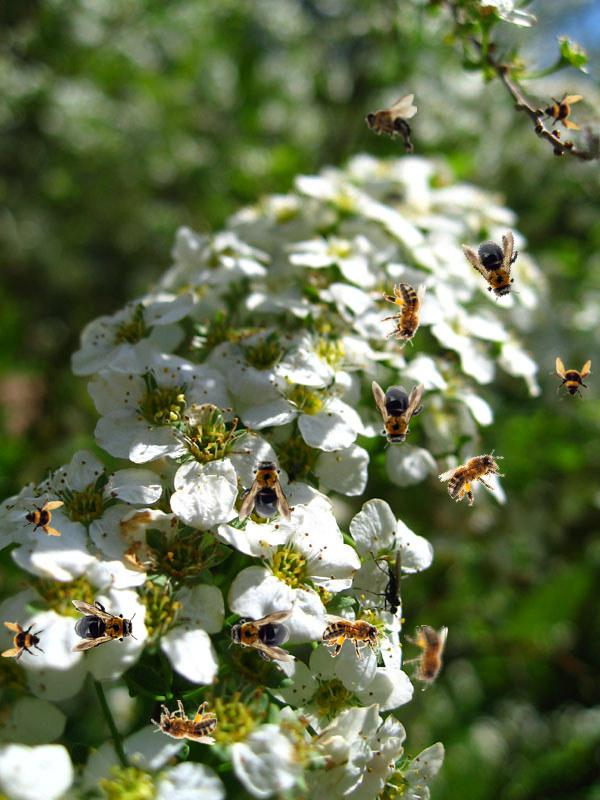Bee: (436, 437, 516, 514), (460, 227, 534, 309), (70, 600, 138, 652), (226, 610, 294, 662), (372, 381, 424, 449), (239, 455, 291, 523), (364, 94, 417, 156), (381, 283, 426, 349), (403, 625, 448, 691), (322, 614, 388, 659), (151, 700, 217, 745), (20, 494, 64, 538), (1, 620, 45, 664), (539, 88, 583, 132), (549, 357, 593, 401)
